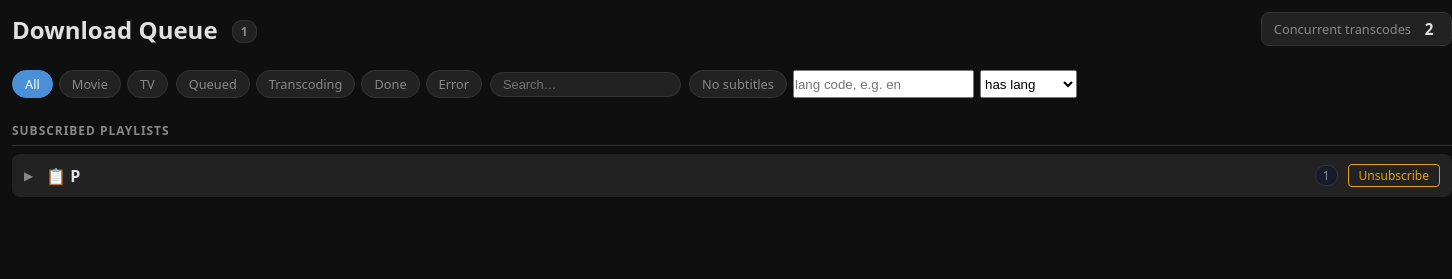
QueueView › QUEUED items appear in "Queued" sub-section
Click the element with test id "group-header-playlist-5" at coordinates (732, 176), box [12,154,1451,197]
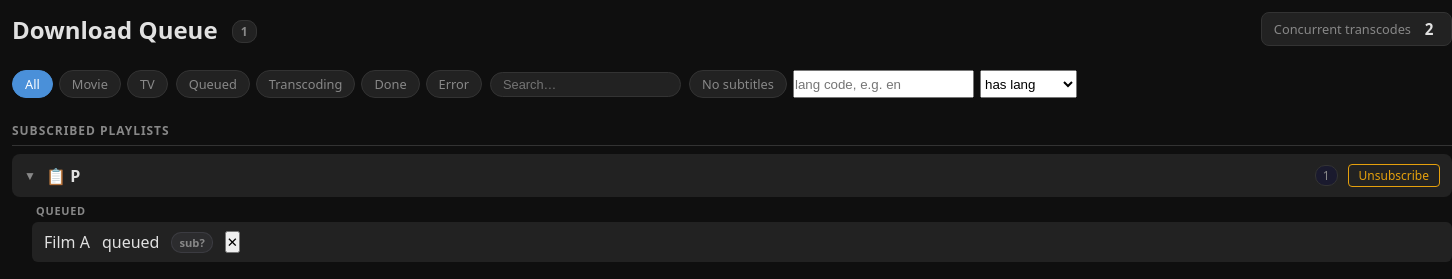
Now the text "QUEUED" is shown, box [36,203,86,218]
